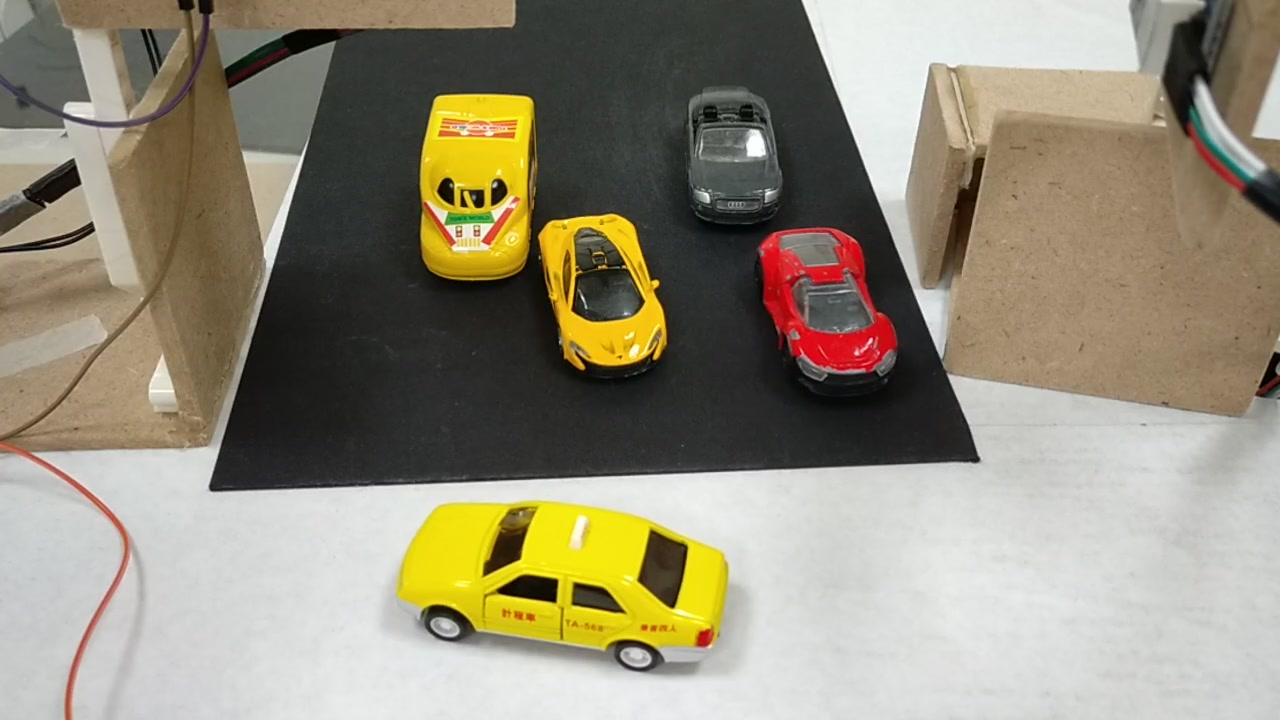car: (400, 501, 729, 679), (760, 232, 896, 393), (535, 216, 665, 375), (683, 89, 784, 225)
